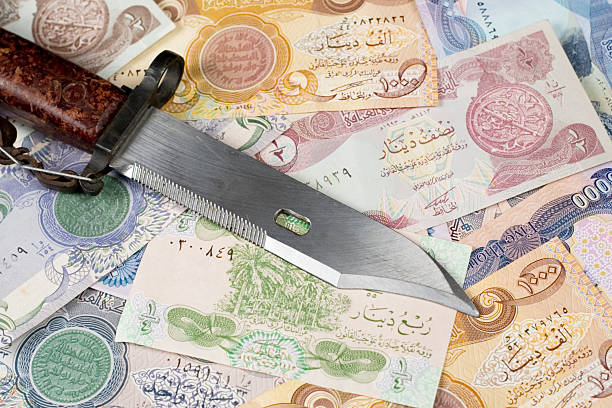knife: (0, 23, 485, 322)
